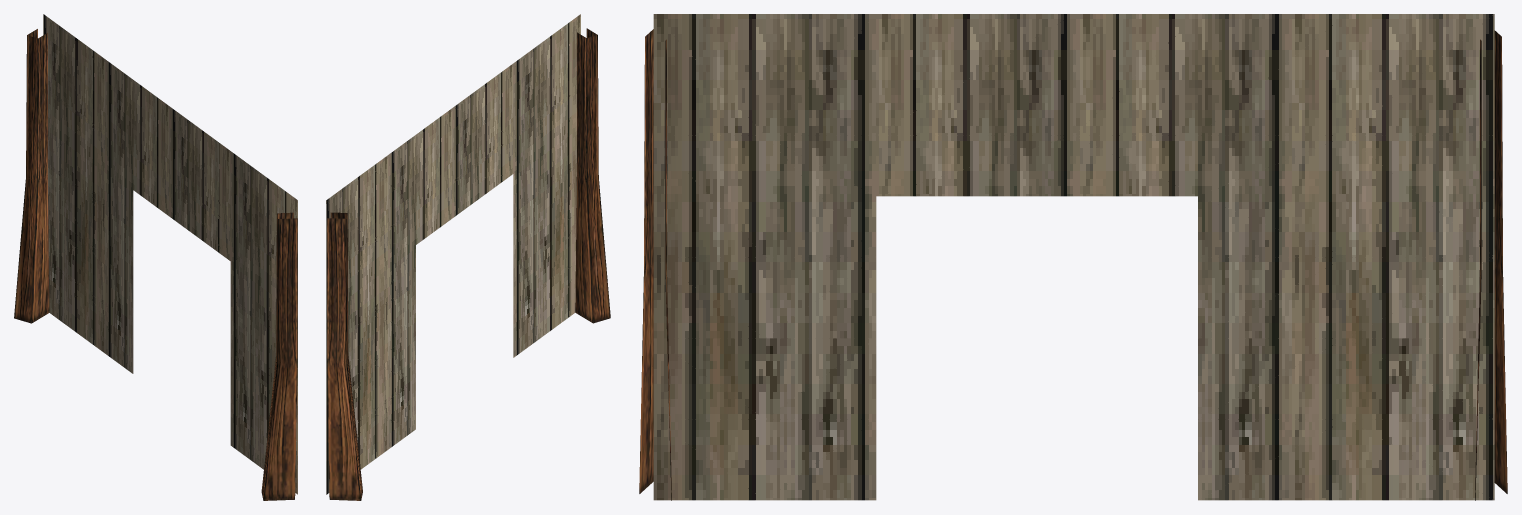
File: LAKETOWN_WAREHOUSE2_PS_WH2_ENTWALL37373__GX.fbx
3 views of the same model, side by side, from view 1: azimuth 30°, elevation 25°; view 2: azimuth 150°, elevation 25°; view 3: azimuth 270°, elevation 25° (orthographic). The views are drawn at different scales.
Parts seen in each view (by area): view 1: LAKETOWN_WAREHOUSE2_PS_WH2_ENTWALL37373__GX; view 2: LAKETOWN_WAREHOUSE2_PS_WH2_ENTWALL37373__GX; view 3: LAKETOWN_WAREHOUSE2_PS_WH2_ENTWALL37373__GX.
Boxes of the visible parts, left/top/right/bottom form: LAKETOWN_WAREHOUSE2_PS_WH2_ENTWALL37373__GX: left=14, top=14, right=297, bottom=500; LAKETOWN_WAREHOUSE2_PS_WH2_ENTWALL37373__GX: left=326, top=14, right=610, bottom=500; LAKETOWN_WAREHOUSE2_PS_WH2_ENTWALL37373__GX: left=639, top=14, right=1507, bottom=500.
Bounding box in the file's own units: 6330 × 52184 × 84419.
2 materials, 2 textured.
